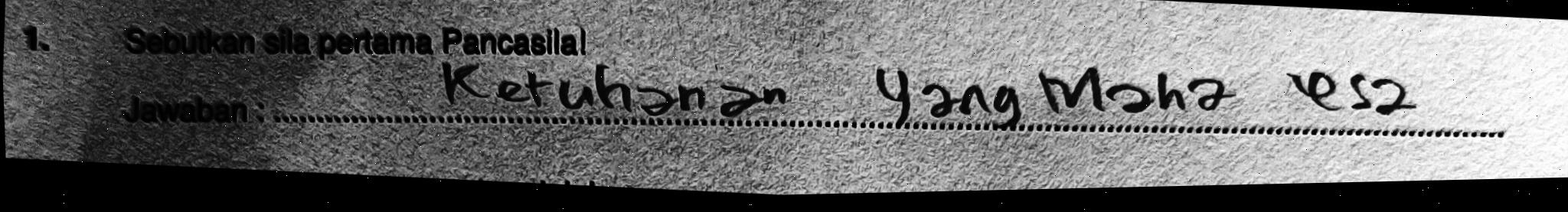jawaban: (440, 61, 787, 120), (875, 66, 1022, 130), (1039, 68, 1237, 115), (1286, 70, 1417, 121)
